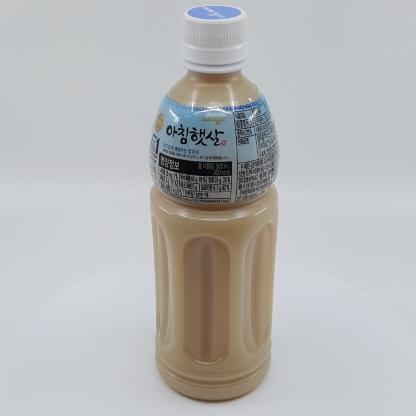------500ML: (149, 5, 279, 401)
